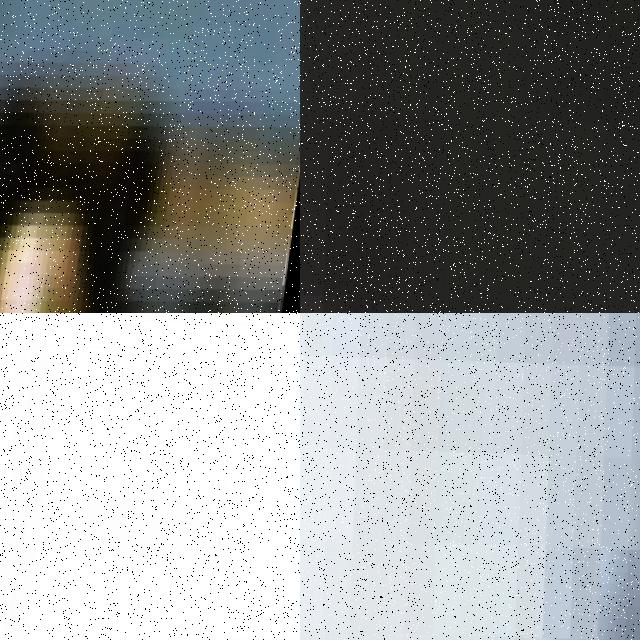drone: (0, 0, 300, 313), (0, 473, 300, 640)
